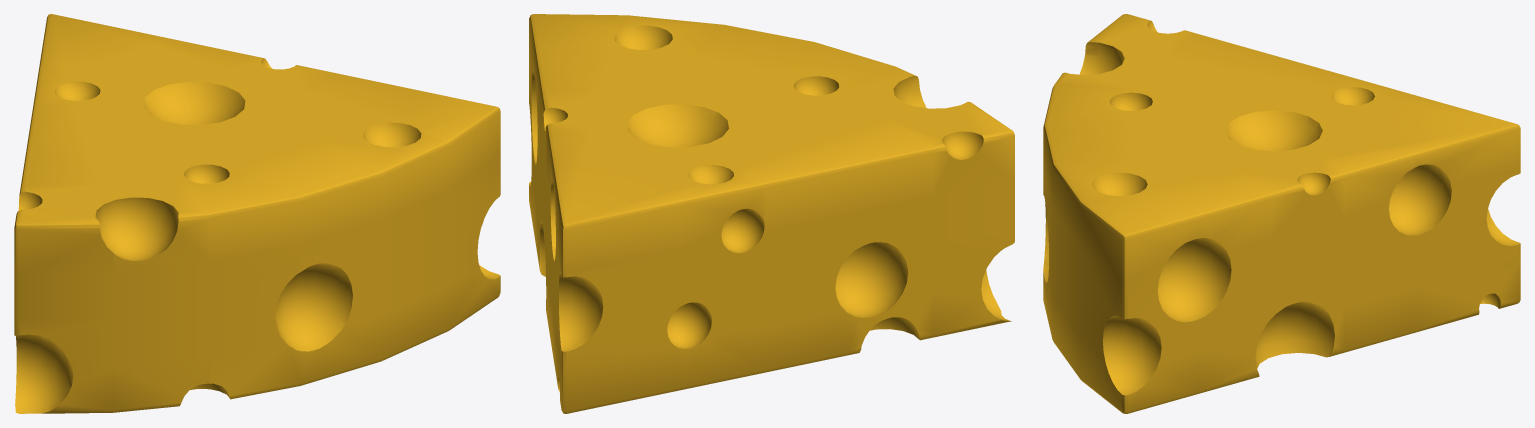
File: Cheese.fbx
3 renders of one model, left to right at view 1: azimuth 30°, elevation 25°; view 2: azimuth 150°, elevation 25°; view 3: azimuth 270°, elevation 25°, orthographic. The views are drawn at different scales.
Parts seen in each view (by area): view 1: Circle; view 2: Circle; view 3: Circle.
Part boxes in pixels (x1,y1,x2,y2): Circle: (14, 14, 500, 413); Circle: (529, 14, 1014, 413); Circle: (1043, 14, 1520, 413).
Bounding box in the file's own units: 110 × 41.53 × 99.54.
